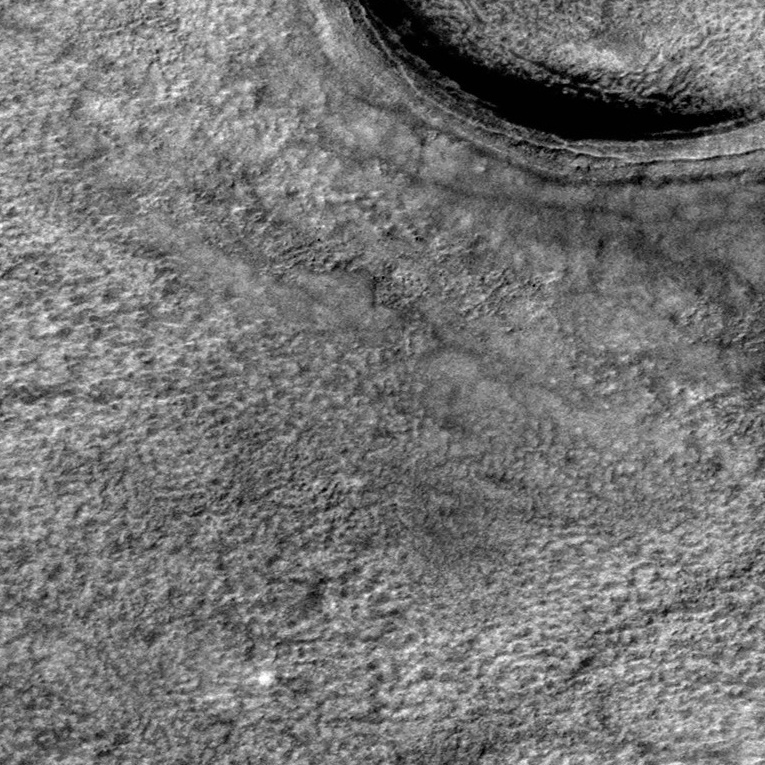dust_devil: (257, 669, 301, 697)
